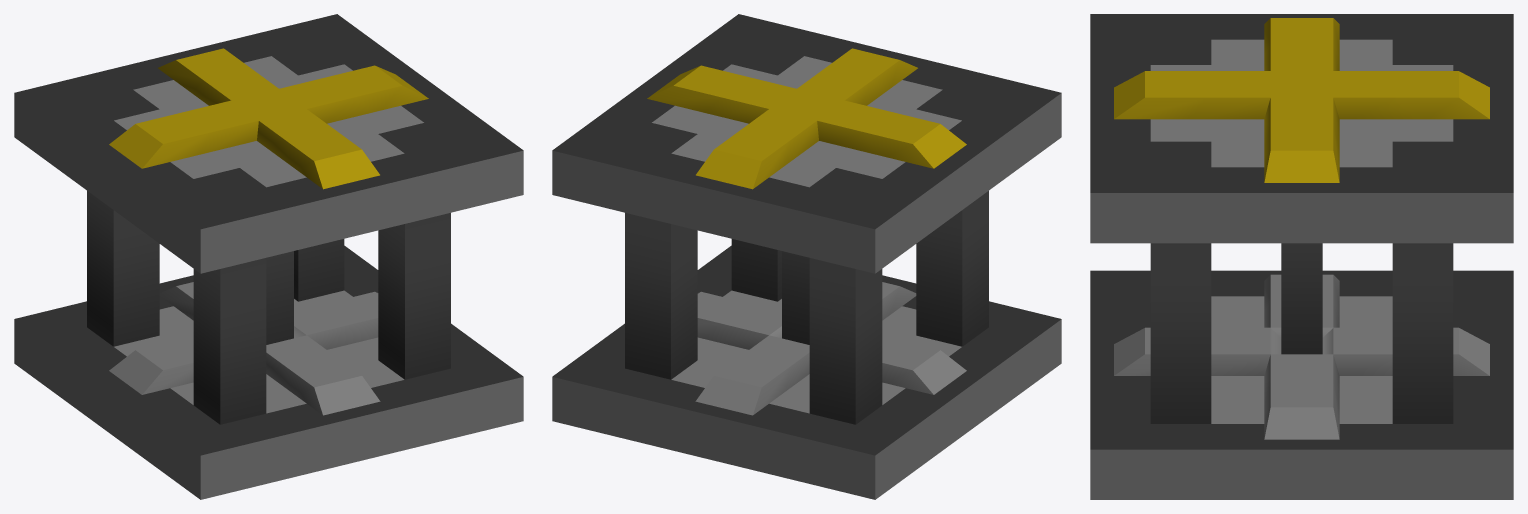
The model's file is armour_cube.fbx.
The picture shows the model from 3 angles, left to right: view 1: azimuth 30°, elevation 25°; view 2: azimuth 150°, elevation 25°; view 3: azimuth 270°, elevation 25°; orthographic projection. The views are drawn at different scales.
Parts seen in each view (by area): view 1: pCube10, pCube12; view 2: pCube10, pCube12; view 3: pCube10, pCube12.
Part boxes in pixels (x1,y1,x2,y2): pCube10: (14,191,523,499); pCube12: (14,14,523,273); pCube10: (552,191,1061,499); pCube12: (552,14,1061,273); pCube10: (1090,243,1513,499); pCube12: (1090,14,1513,243).
Size of the model in its own units: 10 by 8.5 by 10.
